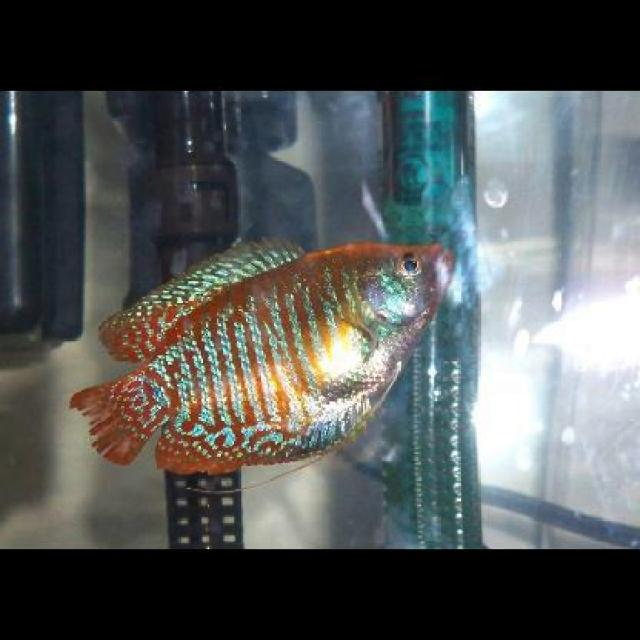Gourami: (70, 226, 450, 470)
